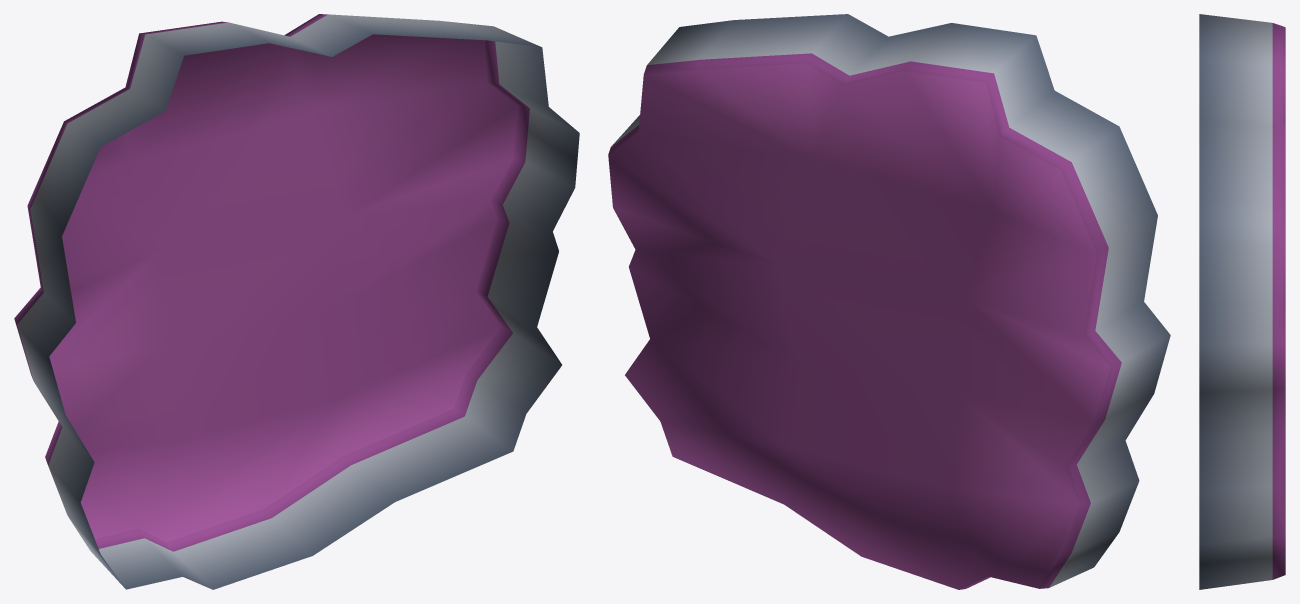
The model's file is Ground 01.FBX.
The picture shows the model from 3 angles, left to right: view 1: azimuth 30°, elevation 25°; view 2: azimuth 150°, elevation 25°; view 3: azimuth 270°, elevation 25°; orthographic projection. The views are drawn at different scales.
Parts seen in each view (by area): view 1: Ground 01; view 2: Ground 01; view 3: Ground 01.
Part boxes in pixels (<box>): Ground 01: <box>14,14,579,589</box>; Ground 01: <box>608,14,1170,589</box>; Ground 01: <box>1199,14,1285,589</box>.
Bounding box in the file's own units: 2657 × 2591 × 414.
Materials: 1 (1 with a texture image).
